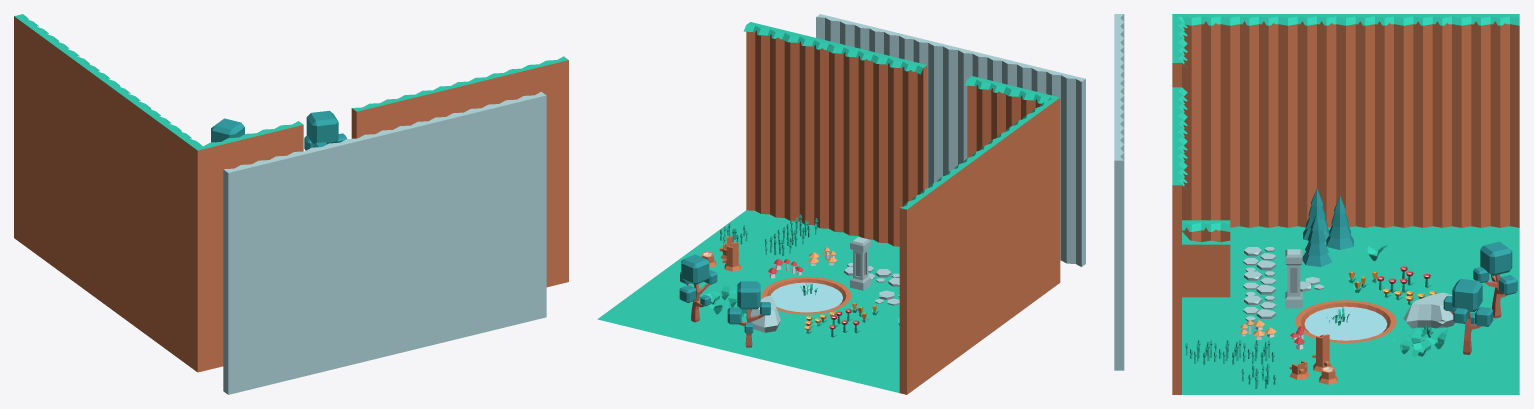
File: sample.glb
3 views of the same model, side by side, from view 1: azimuth 30°, elevation 25°; view 2: azimuth 150°, elevation 25°; view 3: azimuth 270°, elevation 25° (orthographic). The views are drawn at different scales.
Parts seen in each view (by area): view 1: mergedBlocks(Clone); view 2: mergedBlocks(Clone); view 3: mergedBlocks(Clone).
Boxes of the visible parts, x1=… form: mergedBlocks(Clone): x1=14, y1=14, x2=568, y2=394; mergedBlocks(Clone): x1=597, y1=14, x2=1085, y2=394; mergedBlocks(Clone): x1=1114, y1=14, x2=1519, y2=394.
Size of the model in its own units: 7 by 4.05 by 7.
